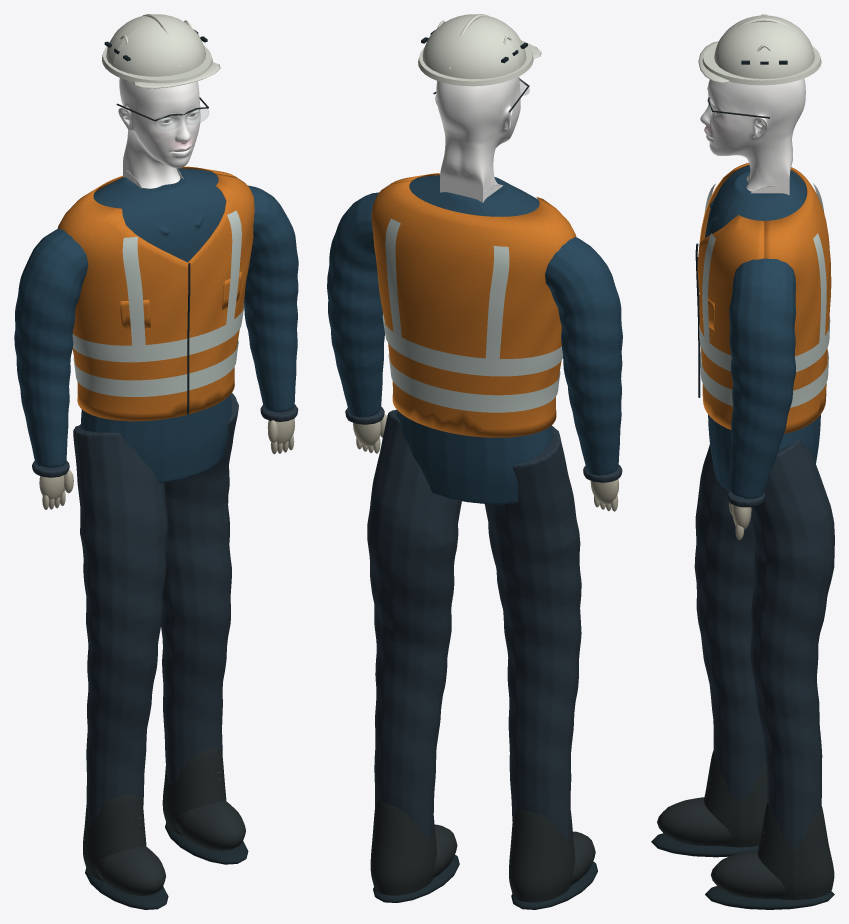
The model's file is Operario_2.glb.
3 views of the same model, side by side, from view 1: azimuth 30°, elevation 25°; view 2: azimuth 150°, elevation 25°; view 3: azimuth 270°, elevation 25° (orthographic). The views are drawn at different scales.
Visible parts, largest first — view 1: Tejido_1.001, Tejido_5.001, Chaleco_6.001, Herraje_3.001, Herraje_7.001, Cabeza anatómica 2, Herraje_10.001, Herraje_4.001, Tejido_13.001; view 2: Tejido_1.001, Tejido_5.001, Chaleco_6.001, Herraje_3.001, Herraje_7.001, Cabeza anatómica 2, Herraje_10.001, Herraje_4.001, Tejido_13.001; view 3: Tejido_1.001, Tejido_5.001, Chaleco_6.001, Herraje_3.001, Cabeza anatómica 2, Herraje_10.001, Herraje_7.001, Herraje_4.001, Tejido_13.001.
Part boxes in pixels (left/top/right/bottom): Tejido_1.001: left=32, top=393, right=298, bottom=826; Tejido_5.001: left=14, top=168, right=298, bottom=483; Chaleco_6.001: left=57, top=166, right=254, bottom=421; Herraje_3.001: left=83, top=747, right=245, bottom=896; Herraje_7.001: left=72, top=210, right=244, bottom=397; Cabeza anatómica 2: left=118, top=78, right=200, bottom=188; Herraje_10.001: left=102, top=14, right=220, bottom=88; Herraje_4.001: left=85, top=29, right=248, bottom=909; Tejido_13.001: left=39, top=418, right=294, bottom=509; Tejido_1.001: left=345, top=406, right=622, bottom=842; Tejido_5.001: left=327, top=175, right=622, bottom=504; Chaleco_6.001: left=371, top=173, right=576, bottom=437; Herraje_3.001: left=370, top=801, right=595, bottom=902; Herraje_7.001: left=382, top=218, right=562, bottom=412; Cabeza anatómica 2: left=435, top=76, right=520, bottom=202; Herraje_10.001: left=418, top=14, right=541, bottom=86; Herraje_4.001: left=373, top=30, right=597, bottom=909; Tejido_13.001: left=353, top=414, right=618, bottom=511; Tejido_1.001: left=694, top=439, right=834, bottom=851; Tejido_5.001: left=705, top=165, right=820, bottom=498; Chaleco_6.001: left=697, top=163, right=831, bottom=433; Herraje_3.001: left=657, top=750, right=834, bottom=899; Cabeza anatómica 2: left=700, top=78, right=805, bottom=195; Herraje_10.001: left=698, top=14, right=821, bottom=85; Herraje_7.001: left=699, top=183, right=830, bottom=407; Herraje_4.001: left=651, top=60, right=834, bottom=909; Tejido_13.001: left=729, top=502, right=751, bottom=539.
Bounding box in the file's own units: 0.5994 × 1.76 × 0.342.
Materials: 20 (5 with a texture image).
